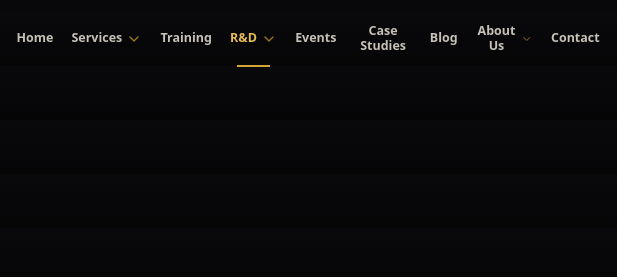
Test: DesktopNavigation › preserves public routes, marks the active group, and exposes its submenu
Check: the navigation bar named "Main navigation" is shown, box x1=16 y1=12 x2=600 y2=66
What coordinates should you click on to do the following:
click the button "R&D"
I would click on:
 (254, 39)
Its box is x1=222 y1=12 x2=285 y2=66.
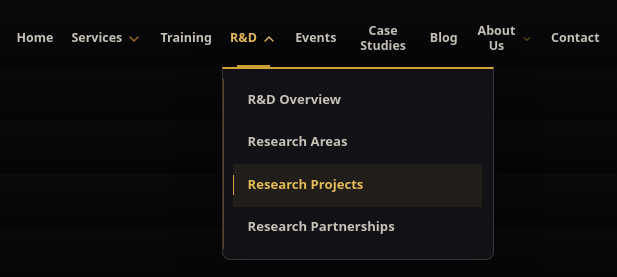
Check: the button "R&D" is expanded, box x1=222 y1=12 x2=285 y2=66
